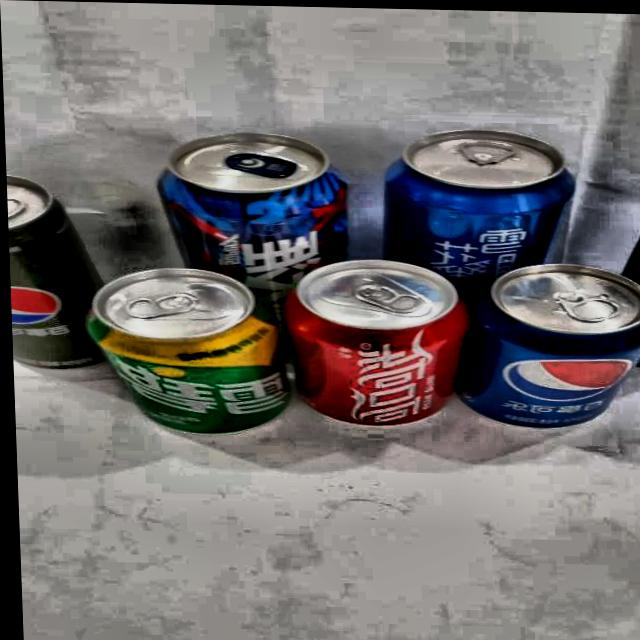can: (77, 258, 292, 437), (449, 250, 640, 431), (372, 119, 579, 283), (274, 250, 466, 426), (149, 123, 349, 289), (5, 165, 103, 373)
